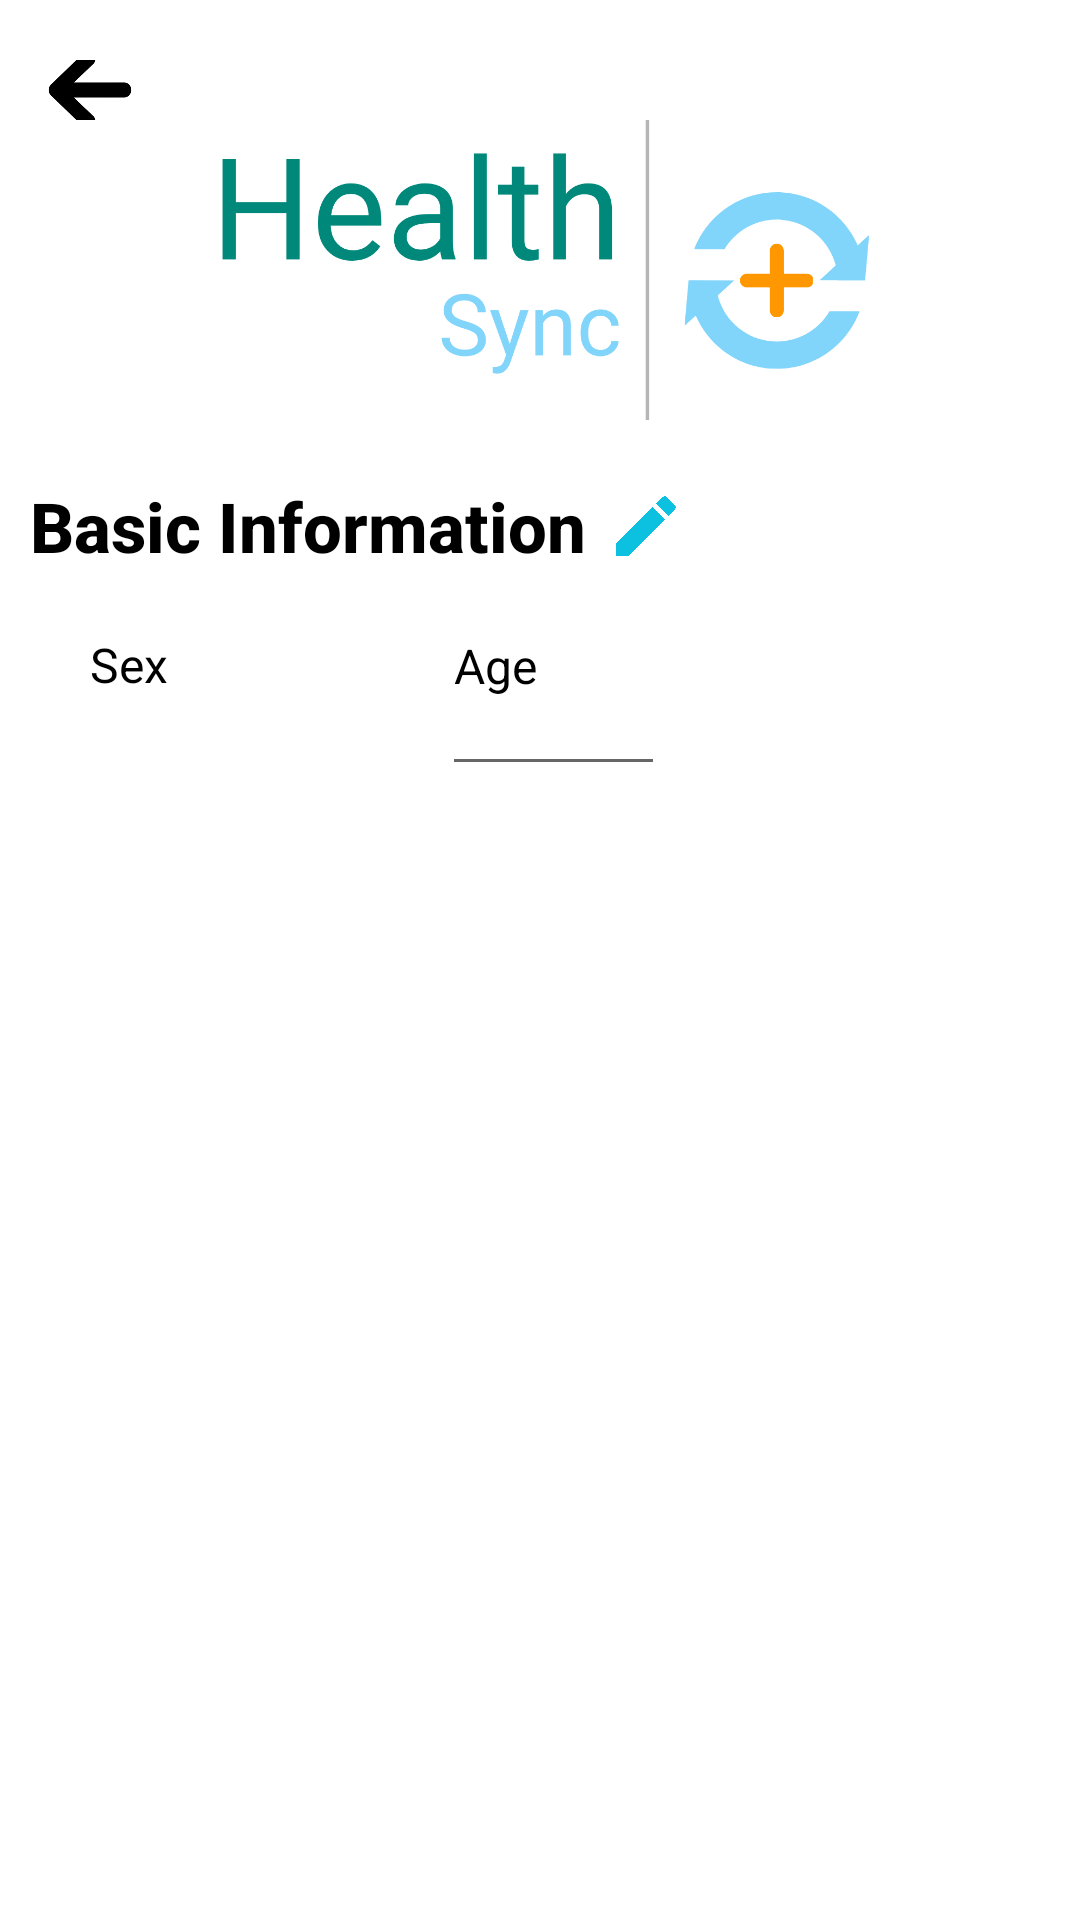

Locate icon controls on the screen. Image size 1080px x 1920px, boxes as (x1, y1, x2, y2).
arrow back: (49, 60, 131, 120)
pen: (616, 496, 676, 556)
